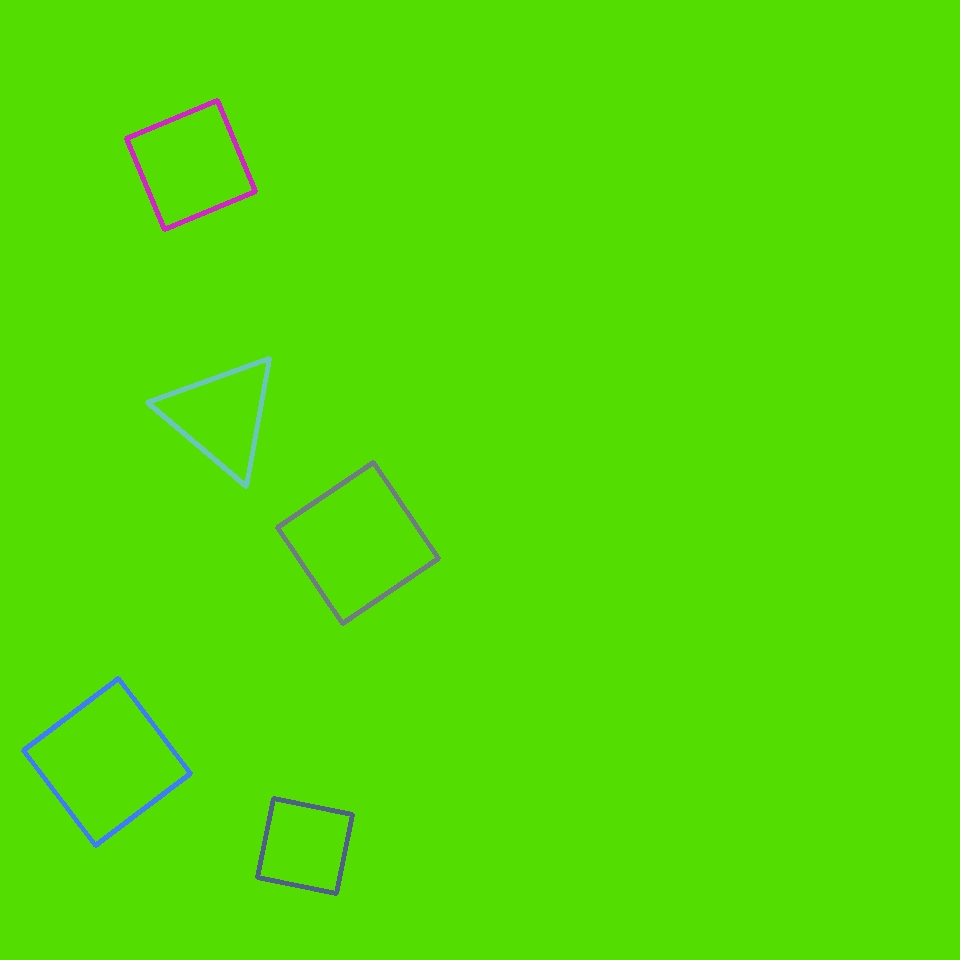circle: (160, 352, 282, 480)
square: (24, 678, 190, 845), (278, 463, 438, 624), (126, 100, 255, 230), (257, 798, 352, 894)
